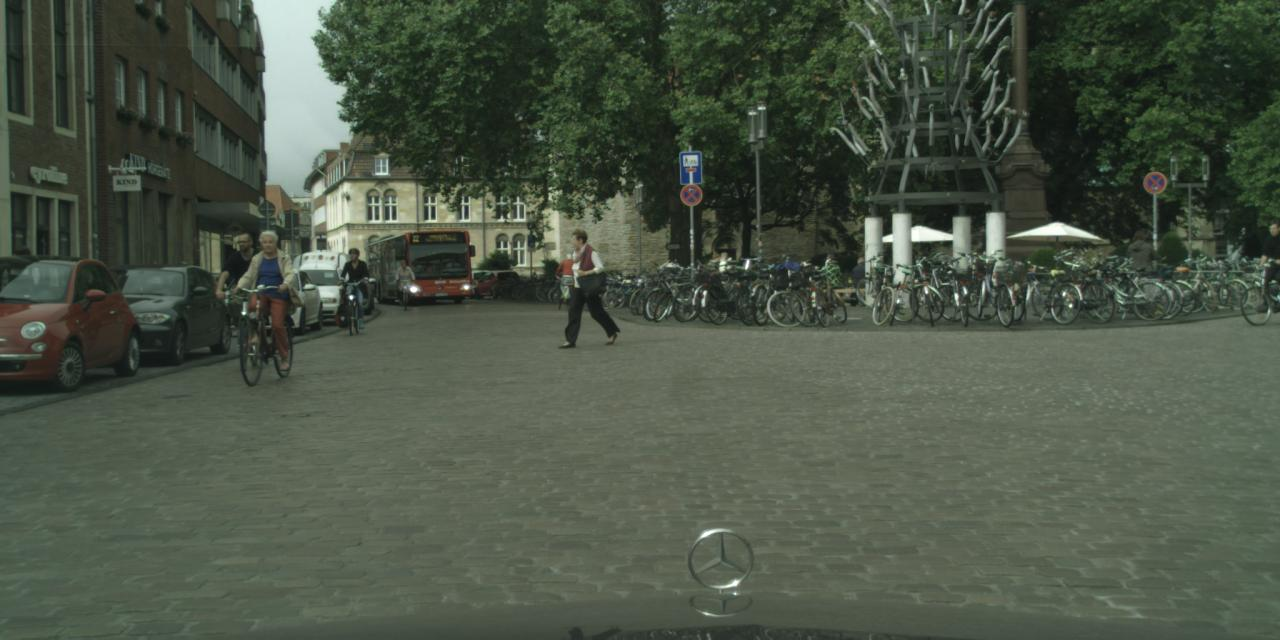ped: (244, 230, 297, 358), (560, 227, 608, 345), (226, 231, 273, 347), (0, 246, 39, 352), (338, 247, 369, 323), (1258, 221, 1278, 308), (558, 252, 577, 300), (395, 259, 413, 303)
